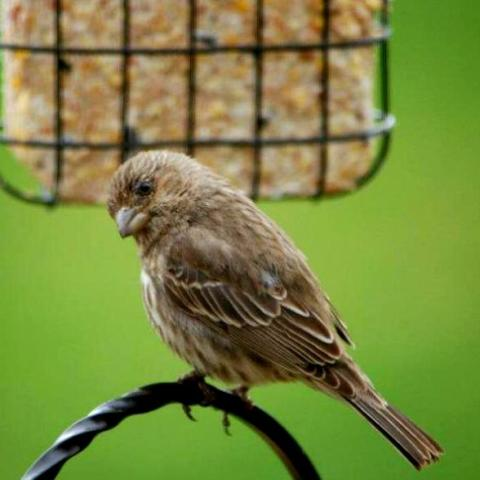bird: (102, 146, 445, 472)
